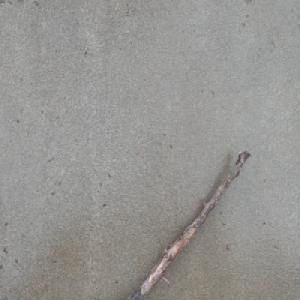Wood: (127, 148, 252, 300)
